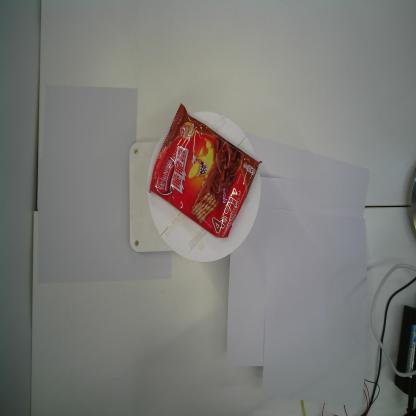Dessert: (148, 102, 262, 240)
